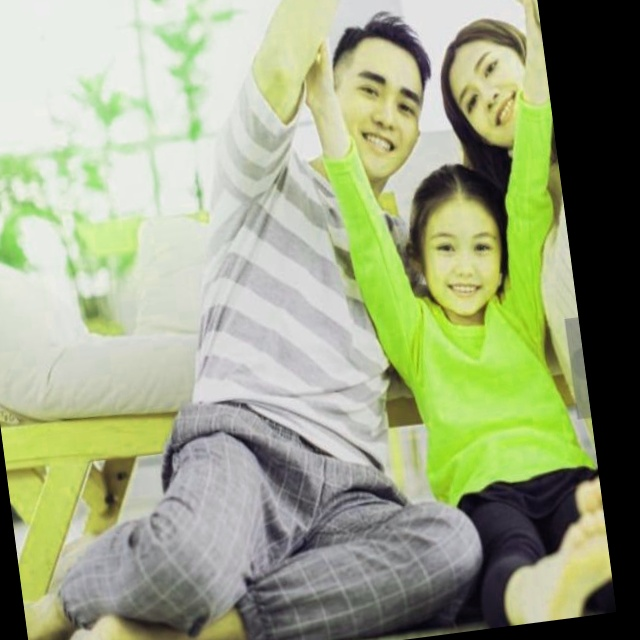Sin_Casco_Mascarrilla: (326, 12, 438, 177), (404, 159, 514, 320)
